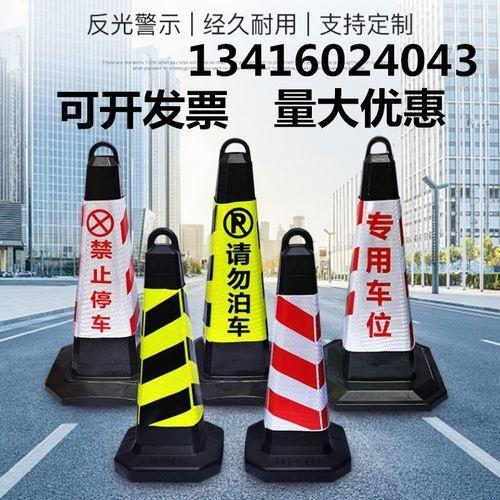cone_barrel: (320, 145, 443, 410), (109, 228, 213, 481), (249, 238, 345, 484), (46, 150, 141, 396), (191, 151, 274, 391)
